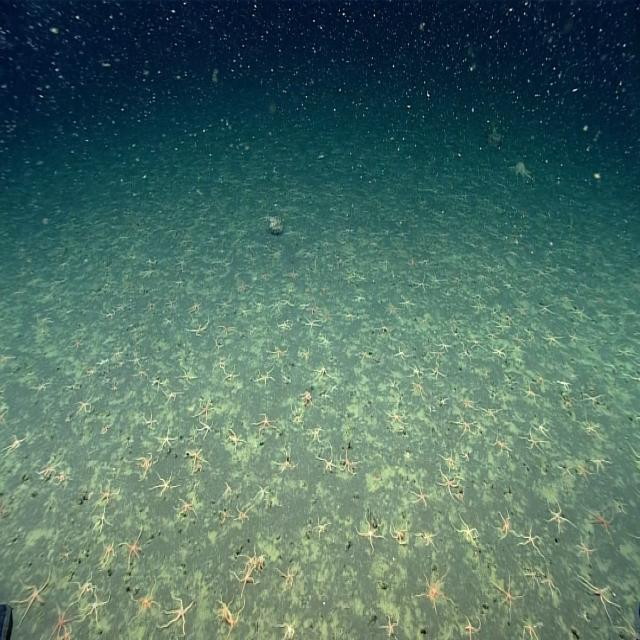brittle-stars: (574, 571, 620, 620), (12, 574, 50, 620), (491, 572, 522, 617), (582, 503, 616, 544), (418, 570, 451, 612), (163, 594, 192, 636), (355, 512, 384, 551), (130, 582, 159, 618), (229, 564, 260, 596), (519, 523, 544, 561), (120, 530, 144, 568), (450, 515, 479, 546), (491, 509, 518, 542), (521, 424, 546, 459), (81, 590, 110, 620), (544, 498, 568, 534), (49, 604, 72, 636), (379, 611, 404, 640), (74, 570, 96, 602), (274, 562, 300, 588), (255, 410, 278, 437), (152, 471, 175, 498), (186, 445, 209, 472), (274, 447, 298, 472), (338, 447, 358, 477), (175, 493, 198, 519), (2, 432, 25, 458), (388, 518, 409, 546), (416, 530, 440, 554), (574, 536, 596, 562), (158, 424, 177, 454), (539, 571, 560, 598), (438, 468, 458, 496), (452, 414, 476, 437), (194, 416, 216, 441), (101, 537, 119, 567), (185, 318, 210, 339), (98, 478, 116, 507), (225, 428, 245, 454), (464, 612, 482, 640), (410, 485, 430, 510), (136, 452, 155, 478), (580, 417, 602, 439), (492, 434, 511, 459), (384, 406, 406, 427), (458, 390, 478, 413), (312, 516, 331, 540), (522, 381, 540, 406), (320, 448, 337, 474), (280, 616, 298, 640), (409, 378, 426, 403), (582, 390, 602, 411), (541, 330, 561, 351), (252, 368, 275, 386), (197, 396, 214, 419), (31, 376, 50, 396), (74, 397, 92, 418), (375, 319, 393, 340), (289, 402, 304, 427), (142, 407, 158, 430), (525, 562, 539, 588), (395, 341, 410, 365), (178, 365, 195, 386), (435, 334, 451, 356), (441, 447, 456, 470), (314, 362, 333, 380), (428, 362, 445, 382), (270, 342, 288, 360), (236, 506, 252, 526), (302, 314, 322, 330), (163, 386, 180, 404), (416, 272, 429, 295), (578, 461, 590, 485), (490, 345, 508, 361), (399, 293, 415, 311), (219, 322, 235, 339), (384, 300, 400, 317), (309, 426, 323, 442), (256, 484, 269, 500), (135, 368, 149, 382), (493, 318, 507, 332), (188, 298, 200, 314), (151, 376, 165, 389), (70, 336, 82, 351), (218, 296, 230, 310), (357, 271, 369, 285), (114, 348, 123, 360)
